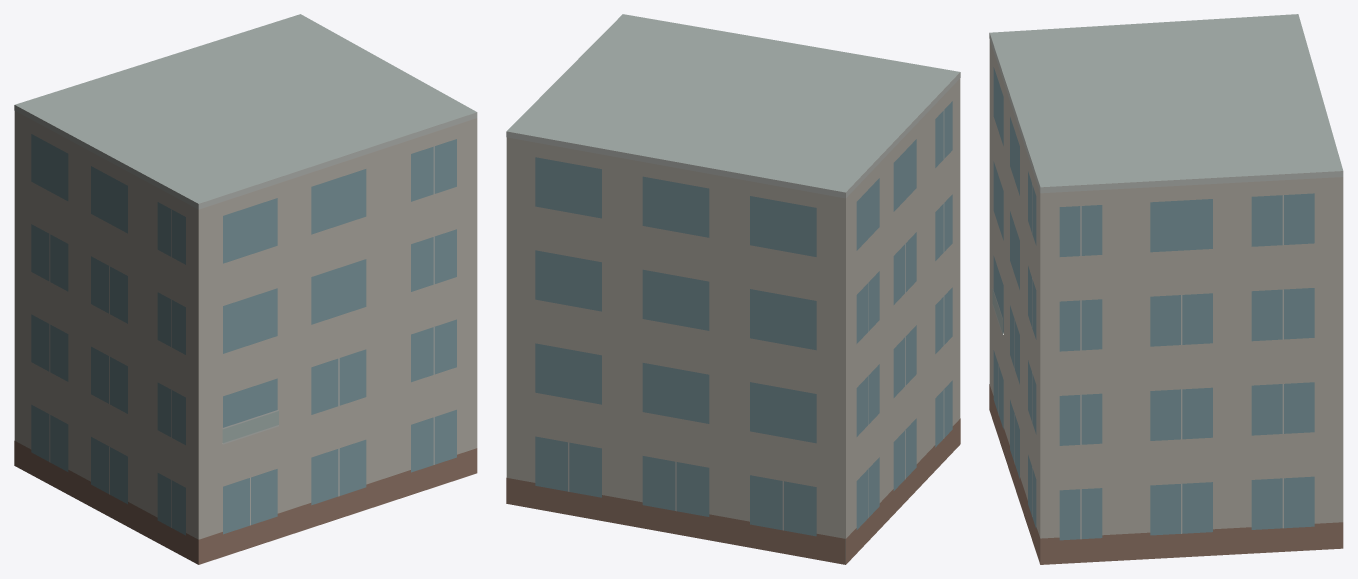
Rendered from survey-upis-32998034.glb.
3 renders of one model, left to right at view 1: azimuth 30°, elevation 25°; view 2: azimuth 150°, elevation 25°; view 3: azimuth 270°, elevation 25°, orthographic. The views are drawn at different scales.
Parts seen in each view (by area): view 1: survey-upis-32998034.tmp; view 2: survey-upis-32998034.tmp; view 3: survey-upis-32998034.tmp.
Boxes of the visible parts, <box> form: survey-upis-32998034.tmp: <box>14,14,477,564</box>; survey-upis-32998034.tmp: <box>506,14,960,564</box>; survey-upis-32998034.tmp: <box>989,14,1343,564</box>.
Size of the model in its own units: 15.07 by 15.3 by 13.
